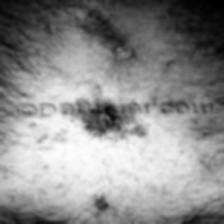Unclassified: (78, 3, 148, 60), (50, 116, 178, 138), (92, 195, 110, 212)
